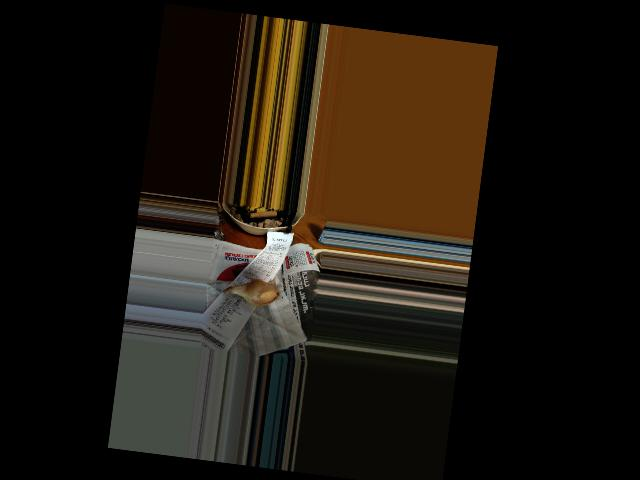onion: (241, 279, 279, 305)
